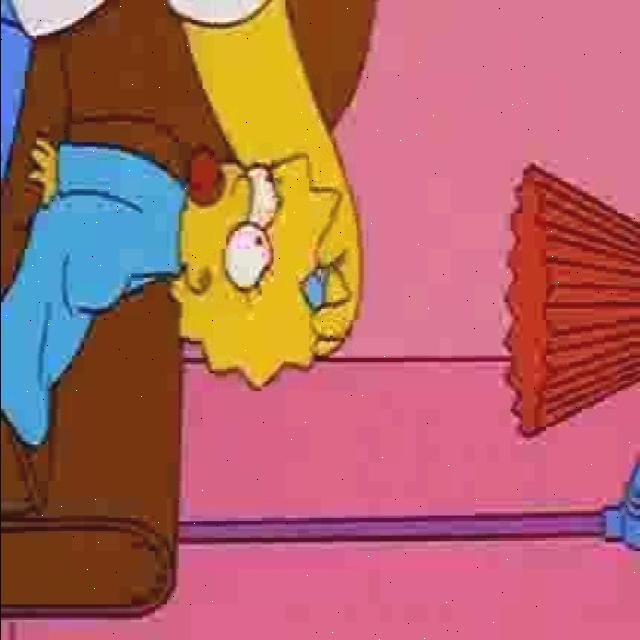Maggie Simpson: (166, 141, 344, 397)
